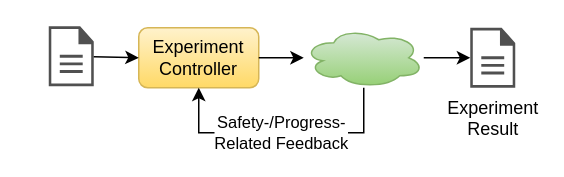
Some shapes in this 564 by 177 pixel diagram are drawn without their labels. Here are the shapes that lost their labels. From the top down, the centre of each, then its label:
At [70,56]: "Experiment Plan".
At [363,57]: "Test".
